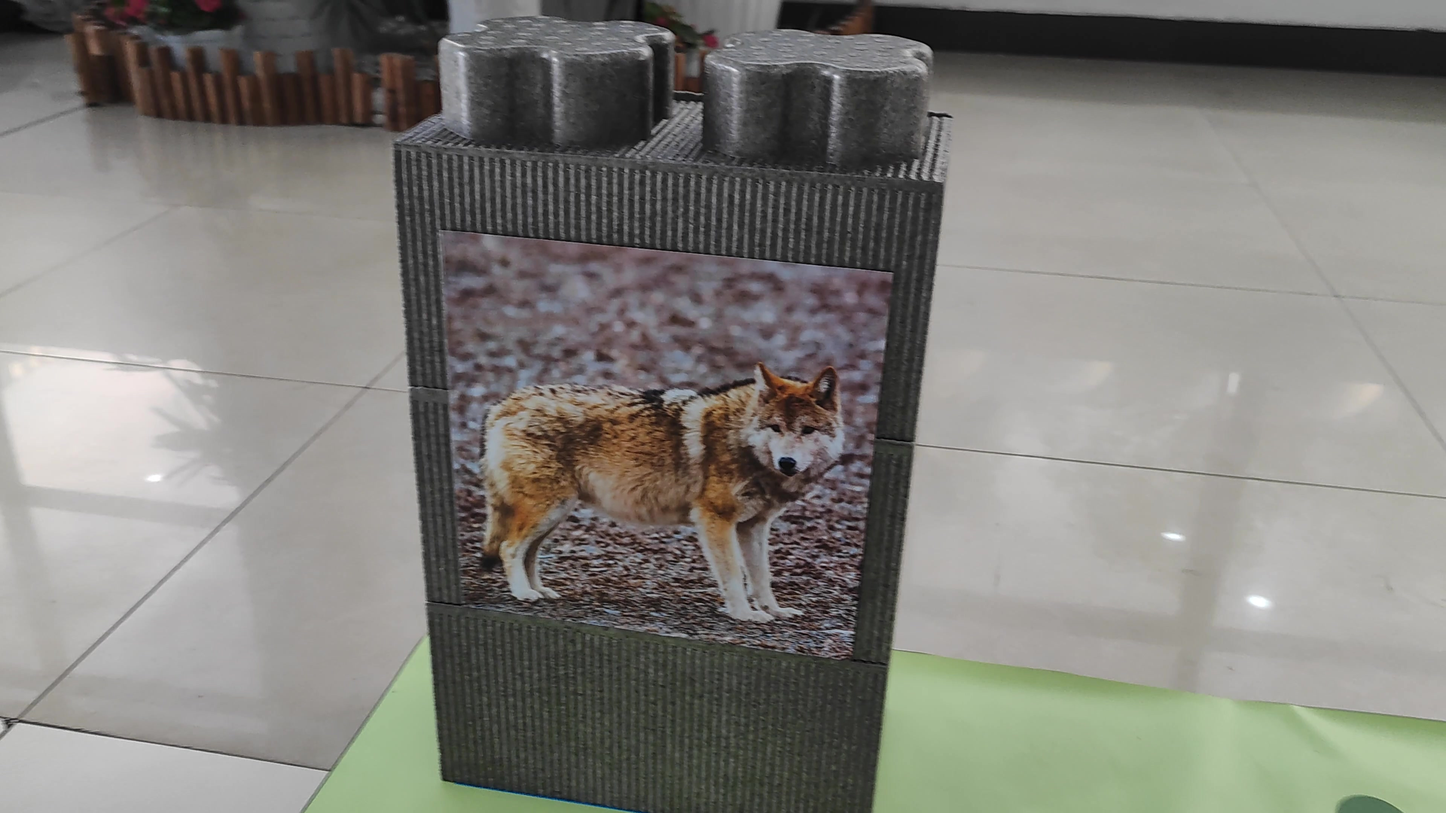wolf: (442, 279, 863, 626)
